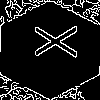X: (25, 25, 77, 58)
